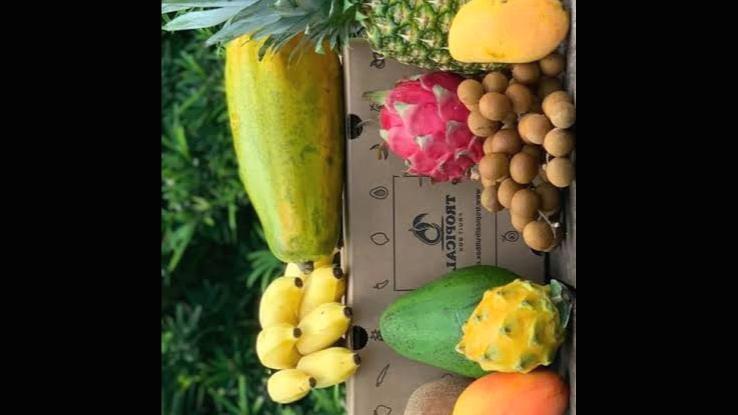chuoi: (258, 266, 362, 404)
thanh_long: (364, 74, 466, 182)
xoai: (447, 0, 569, 62), (452, 370, 566, 415)
